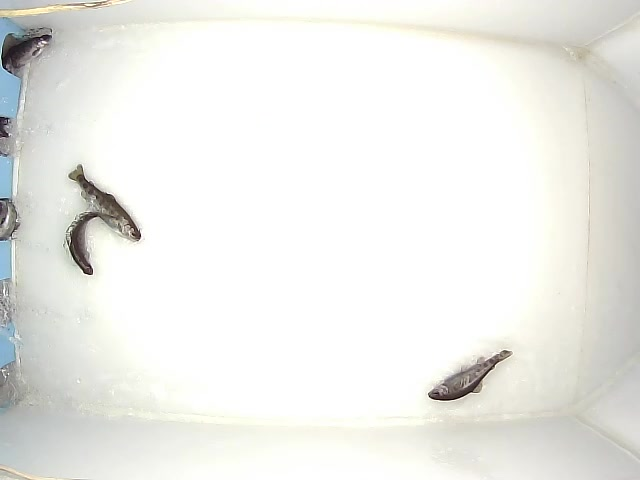fish: (65, 163, 145, 245), (419, 347, 514, 402), (63, 209, 122, 275)
